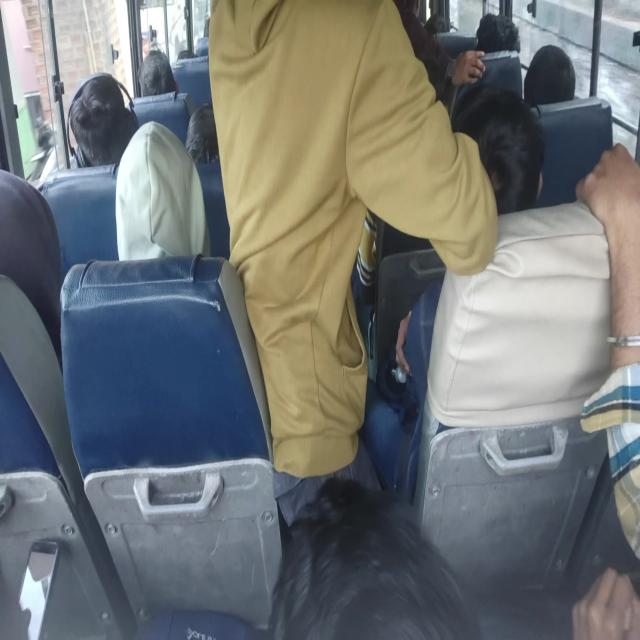person: (382, 55, 544, 429), (0, 168, 108, 634), (284, 481, 477, 634), (115, 121, 209, 261), (528, 96, 612, 212), (456, 12, 526, 123), (66, 77, 136, 167), (522, 44, 576, 109), (185, 102, 219, 164), (138, 50, 176, 97), (193, 15, 210, 58), (426, 14, 448, 35), (184, 93, 198, 118), (177, 49, 196, 59)
